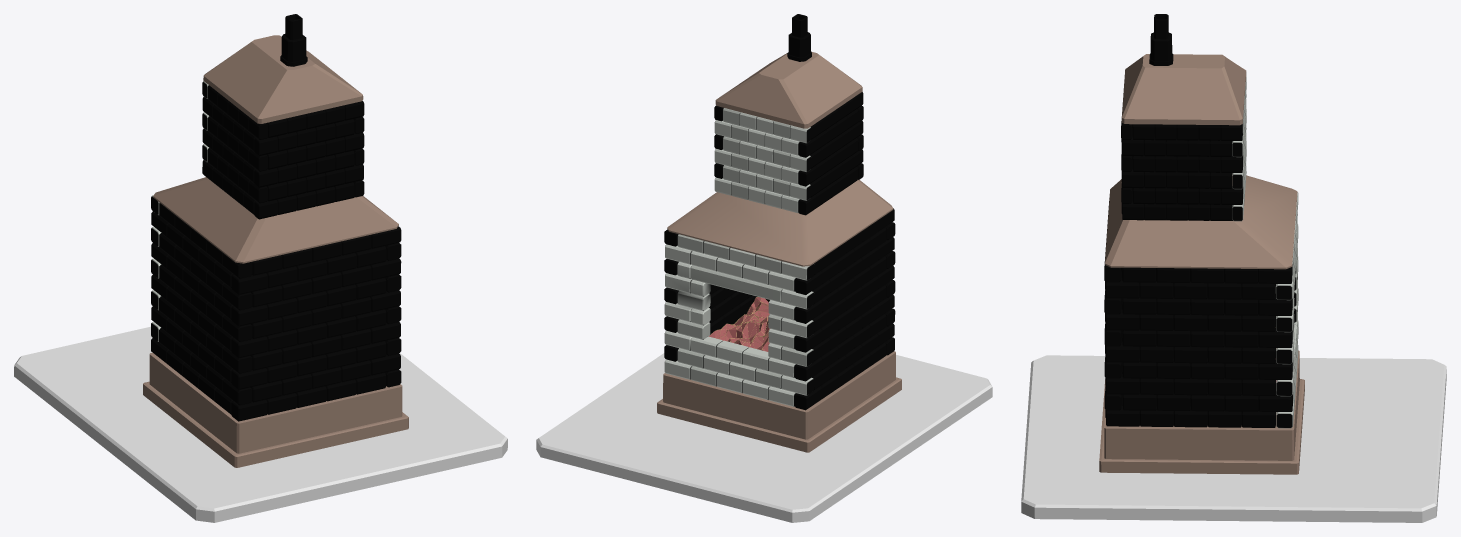
Rendered from Forge_edit.fbx.
3 views of the same model, side by side, from view 1: azimuth 30°, elevation 25°; view 2: azimuth 150°, elevation 25°; view 3: azimuth 270°, elevation 25° (orthographic). The views are drawn at different scales.
Parts seen in each view (by area): view 1: White_color, Plane, Orange_color; view 2: White_color, Plane, Orange_color, Plane_001; view 3: Plane, White_color, Orange_color.
Boxes of the visible parts, <box> form: White_color: <box>151,14,401,421</box>; Plane: <box>14,326,507,522</box>; Orange_color: <box>143,35,408,467</box>; White_color: <box>664,14,895,410</box>; Plane: <box>536,353,992,522</box>; Orange_color: <box>657,51,901,452</box>; Plane_001: <box>708,297,770,351</box>; Plane: <box>1021,355,1446,522</box>; White_color: <box>1104,14,1298,428</box>; Orange_color: <box>1099,54,1304,474</box>.
Bounding box in the file's own units: 1098 × 1403 × 1264.
